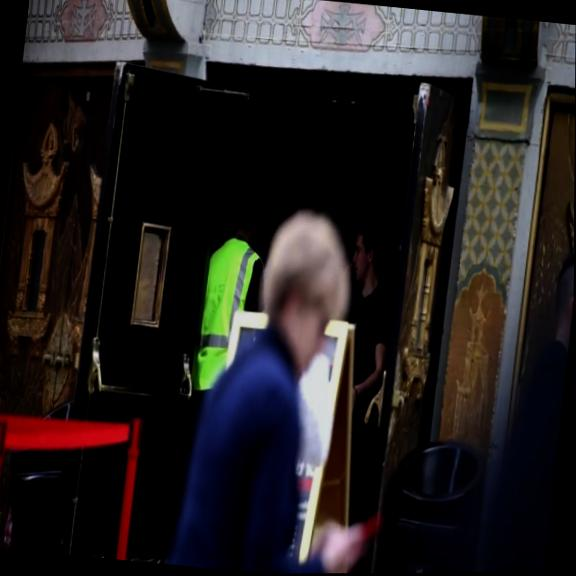safety_vest: (193, 230, 269, 396)
